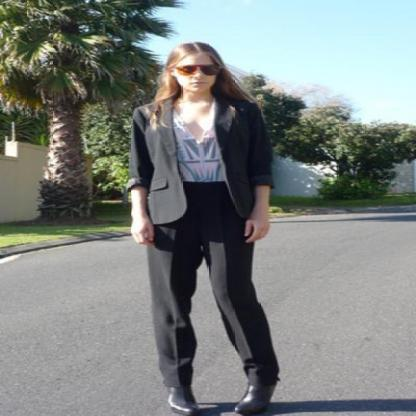jacket: (109, 94, 274, 241)
pants: (143, 178, 278, 404)
shirt: (150, 96, 228, 186)
shoe: (172, 374, 276, 416)
